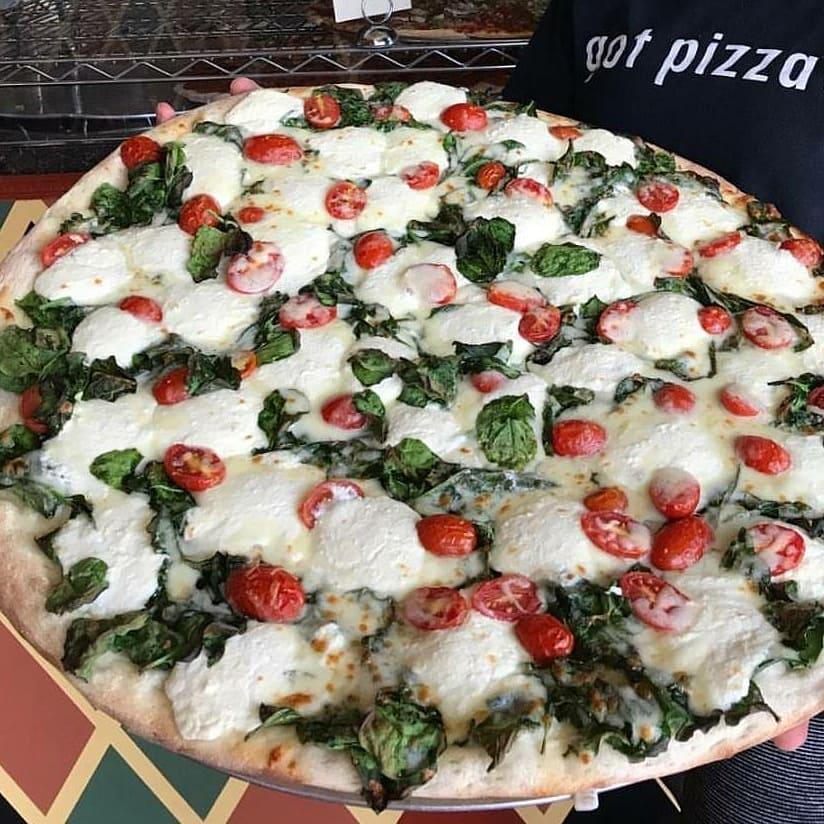Arugula: (532, 576, 677, 753), (62, 590, 238, 682), (289, 703, 433, 785), (135, 459, 199, 585), (325, 436, 437, 497), (0, 300, 74, 382), (428, 208, 518, 275), (365, 346, 466, 403), (88, 165, 179, 224), (762, 590, 824, 663), (192, 210, 250, 282), (40, 560, 109, 610), (558, 156, 603, 230), (776, 372, 824, 436), (159, 338, 229, 381), (483, 399, 528, 464), (253, 300, 293, 363), (339, 92, 378, 128), (536, 245, 595, 268)
Pizza: (2, 79, 824, 801)
Tomatoes: (622, 568, 692, 633), (740, 522, 804, 583), (235, 566, 302, 620), (399, 583, 469, 634), (472, 570, 540, 615), (588, 510, 652, 557), (225, 242, 280, 296), (298, 482, 361, 529), (517, 611, 576, 661), (655, 519, 710, 571), (412, 516, 478, 557), (163, 442, 221, 487), (400, 265, 455, 308), (742, 306, 793, 350), (276, 292, 333, 330), (519, 300, 565, 346), (653, 473, 701, 517), (736, 436, 790, 475), (149, 368, 201, 408), (555, 420, 607, 457), (246, 133, 302, 167), (596, 300, 633, 351), (179, 192, 220, 236), (326, 176, 365, 222), (16, 385, 55, 431), (639, 176, 683, 214), (356, 226, 392, 268), (43, 236, 87, 269), (505, 176, 555, 205), (653, 379, 694, 414), (403, 156, 440, 194), (490, 285, 544, 310), (325, 390, 363, 424), (109, 296, 162, 320), (445, 102, 489, 130), (582, 482, 624, 511), (702, 228, 741, 257), (306, 92, 337, 128), (785, 236, 817, 268), (479, 159, 508, 194), (723, 388, 759, 416), (666, 246, 696, 279), (625, 209, 661, 236), (123, 138, 153, 168), (702, 305, 730, 333), (472, 370, 505, 392), (376, 103, 412, 122)
